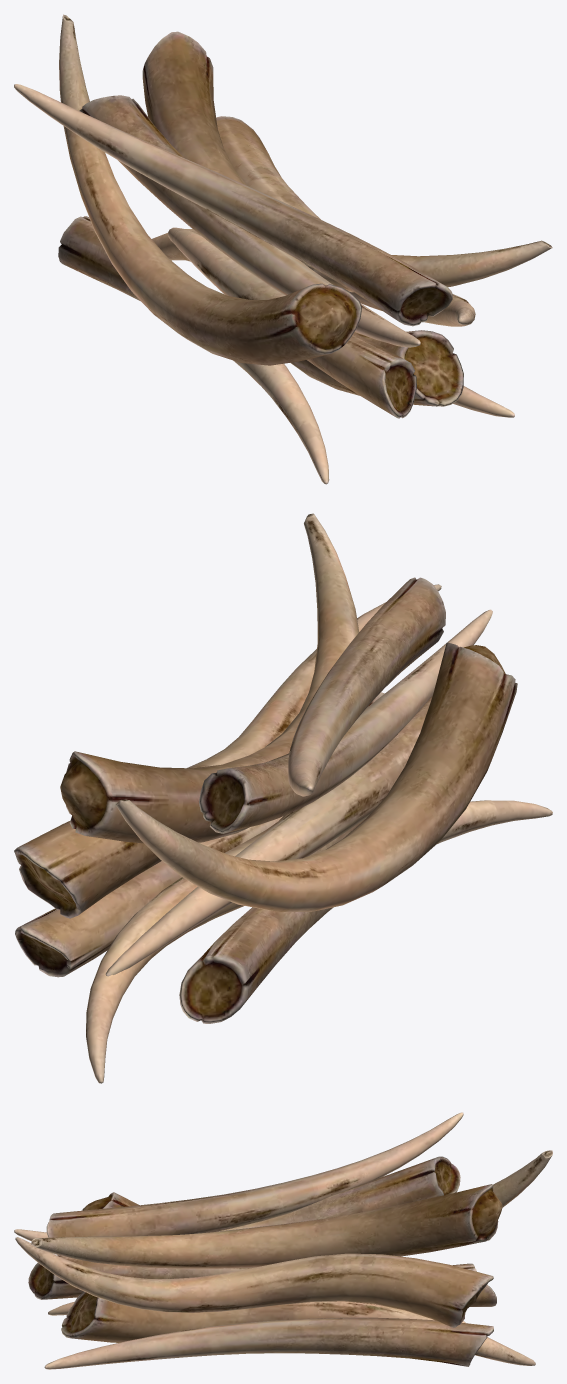
The picture shows the model from 3 angles, top to bottom: view 1: azimuth 30°, elevation 25°; view 2: azimuth 150°, elevation 25°; view 3: azimuth 270°, elevation 25°; orthographic projection. The views are drawn at different scales.
Parts seen in each view (by area): view 1: SM_Dec_Garou_Materials_Tusks_01_LOD0; view 2: SM_Dec_Garou_Materials_Tusks_01_LOD0; view 3: SM_Dec_Garou_Materials_Tusks_01_LOD0.
Boxes of the visible parts, box(x1,y1,x2,y2) form: SM_Dec_Garou_Materials_Tusks_01_LOD0: box(14, 14, 552, 484); SM_Dec_Garou_Materials_Tusks_01_LOD0: box(14, 513, 552, 1083); SM_Dec_Garou_Materials_Tusks_01_LOD0: box(14, 1112, 552, 1369).
Bounding box in the file's own units: 0.835 × 0.7464 × 1.78.
Materials: 1 (1 with a texture image).
